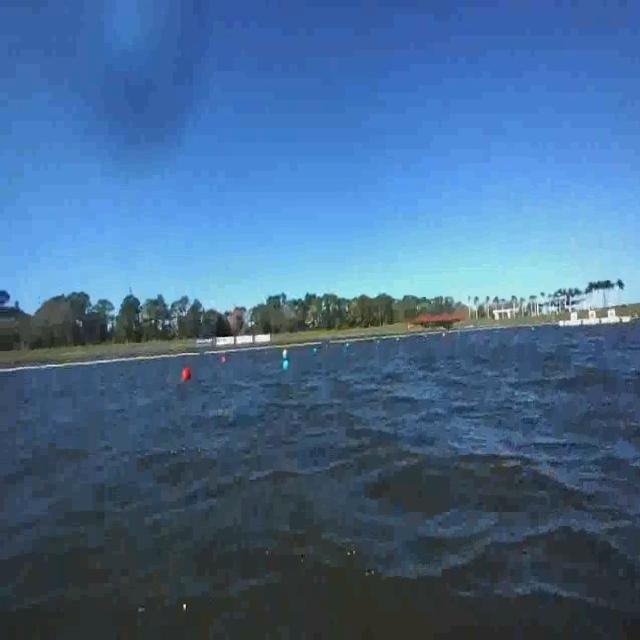green-buoy: (280, 357, 291, 375)
red-buoy: (182, 366, 190, 380)
